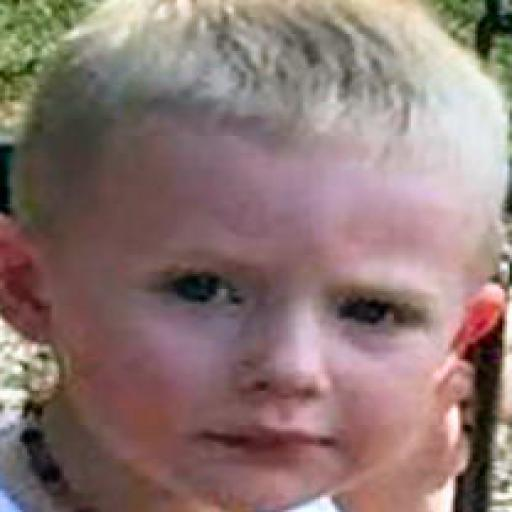Autism: (7, 5, 512, 512)
